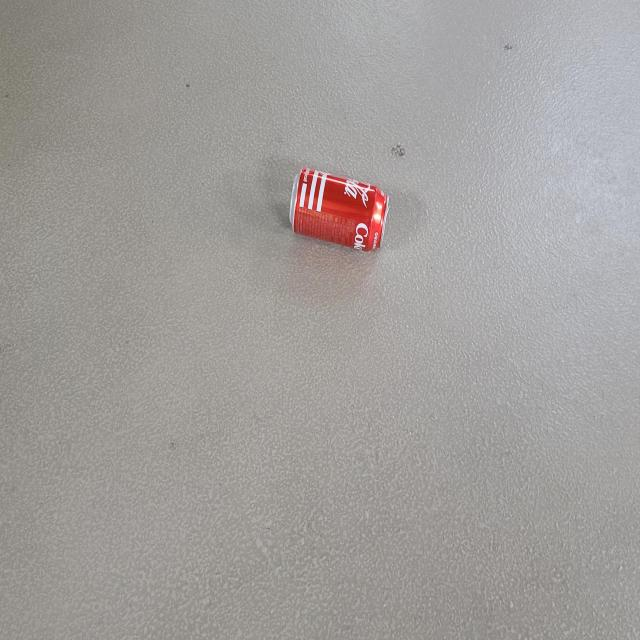can: (289, 167, 389, 251)
